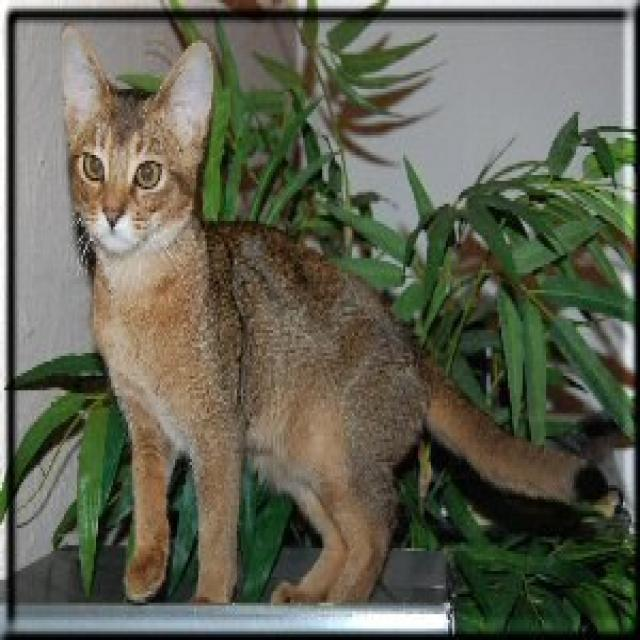Abyssinian: (58, 20, 213, 253)
